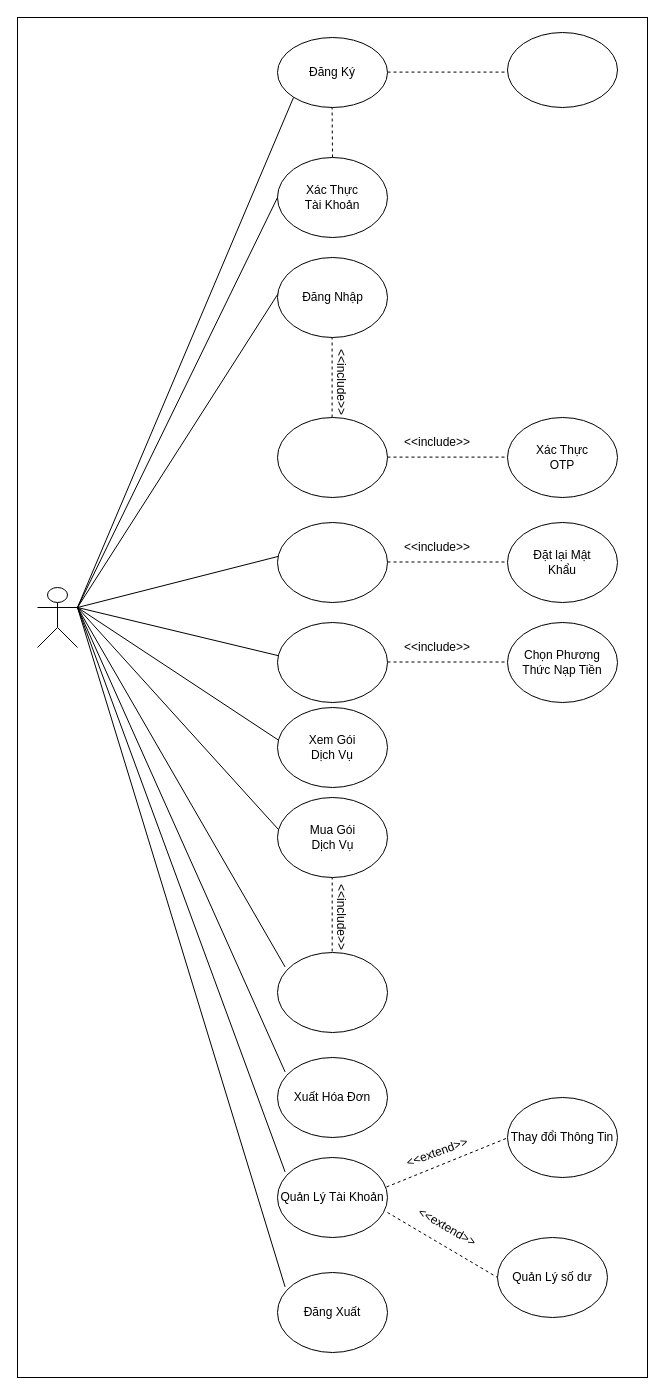
Image size: 665x1395. Some labels were removed from this diagram. Here are the shapes that lost their labels. From the top down, the box of each, then its label:
(506, 32, 618, 108): Tạo Tài Khoản
(276, 416, 388, 498): Xác Thực hai yếu tố
(276, 522, 388, 602): Quên Mật Khẩu
(36, 586, 78, 648): Actor
(276, 622, 388, 702): Nạp Tiền
(276, 952, 388, 1032): Kiểm tra lịch sử giao dịch
